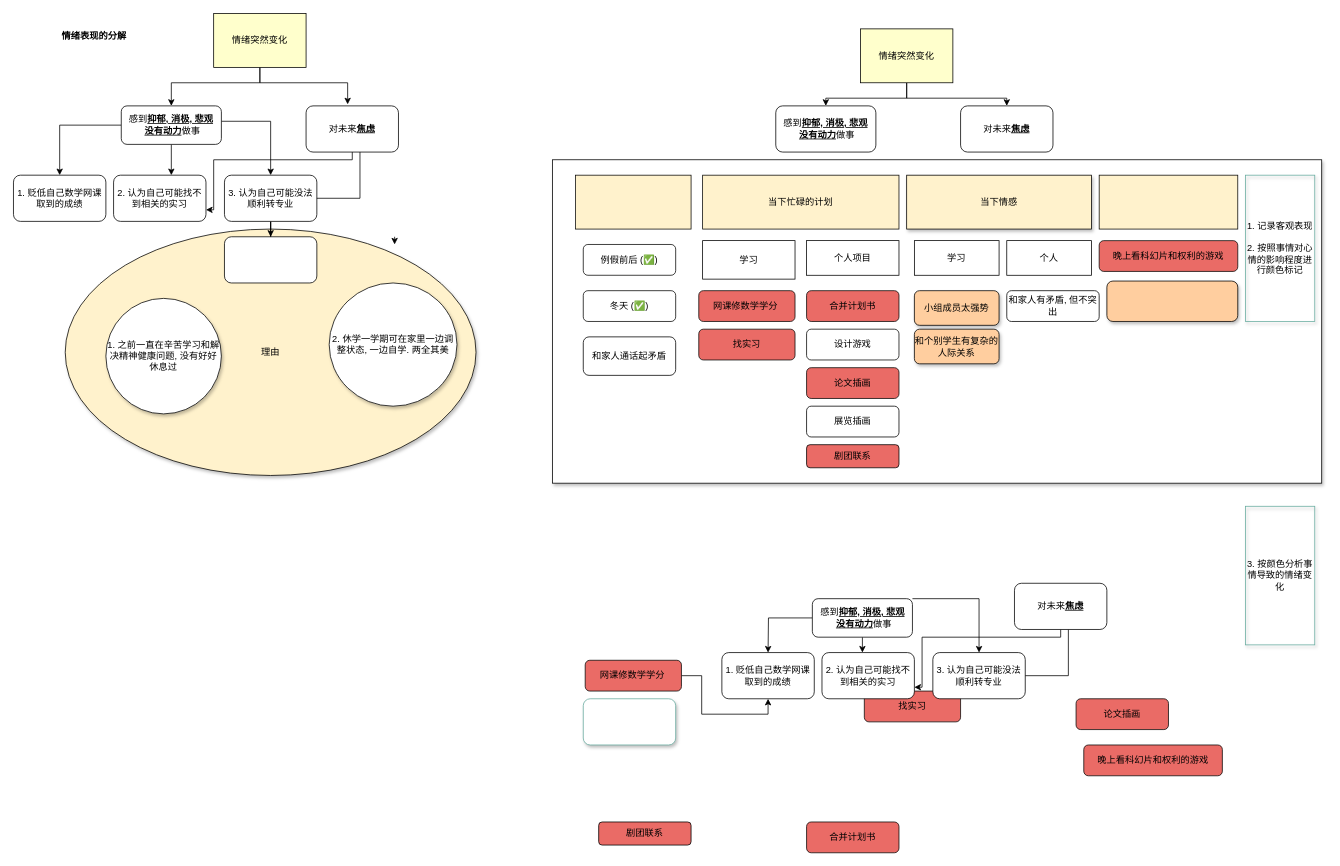
The diagram is 1340 pixels wide and 866 high, and some of its shapes have lost their labels. Each missing label, with the centre of its shape:
导致情绪变化的 常规原因: point 633,201
日常变化: point 1168,201
累了, 想要休学一学期: point 270,259
过节期间和男友家人频繁聚会: point 1172,302
